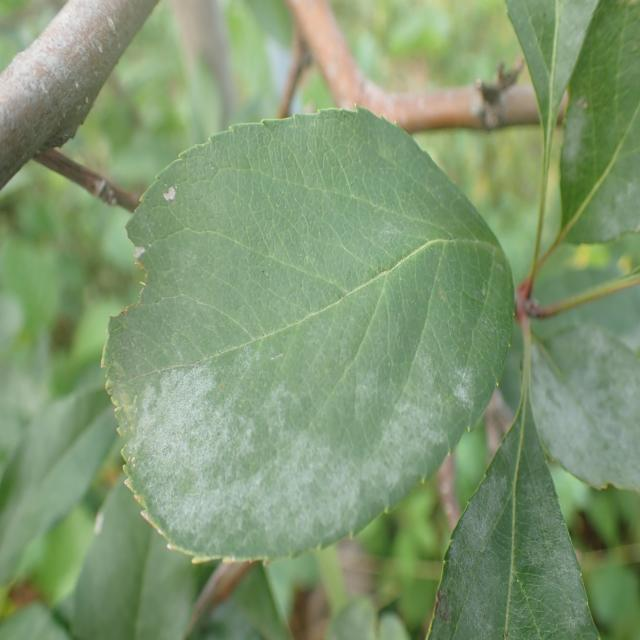Powdery_mildew: (105, 136, 481, 568), (426, 429, 604, 640), (521, 314, 640, 482)
